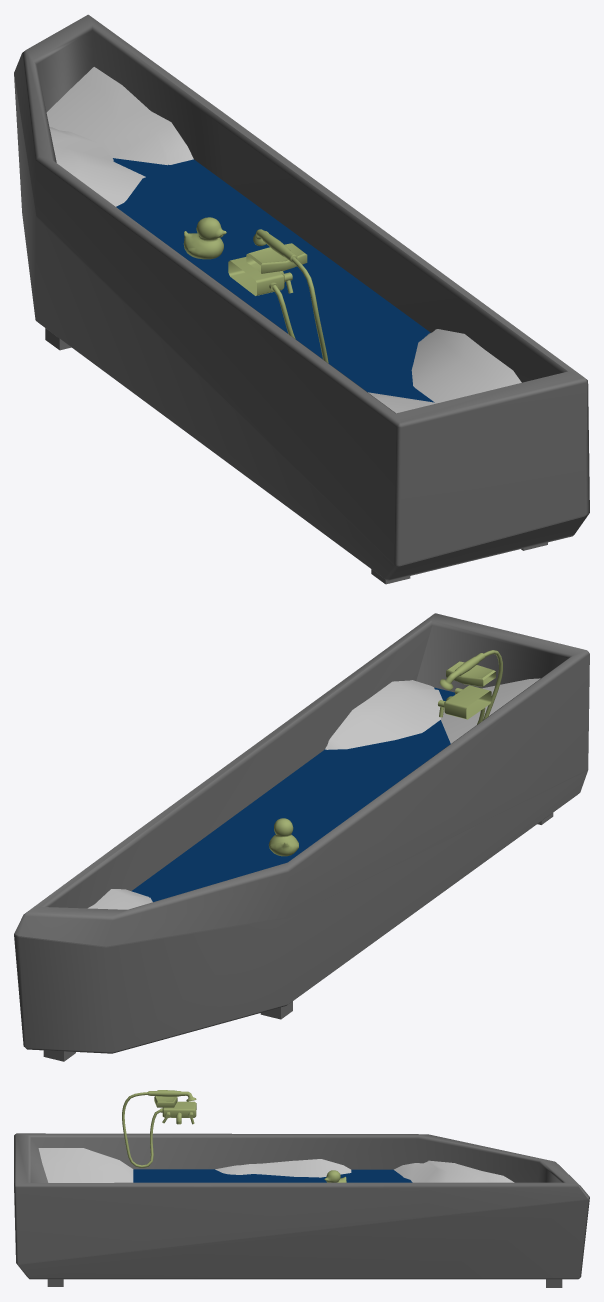
The model's file is SciFiTub.fbx.
The picture shows the model from 3 angles, top to bottom: view 1: azimuth 30°, elevation 25°; view 2: azimuth 150°, elevation 25°; view 3: azimuth 270°, elevation 25°; orthographic projection. The views are drawn at different scales.
Parts seen in each view (by area): view 1: SciFiTub, Water, Soap, Hose, RubberDucky; view 2: SciFiTub, Water, Soap, Hose, RubberDucky; view 3: SciFiTub, Soap, Water, Hose.
Part boxes in pixels (bbox=[...]): SciFiTub: bbox=[14, 14, 589, 584]; Water: bbox=[113, 158, 434, 402]; Soap: bbox=[46, 67, 521, 413]; Hose: bbox=[228, 229, 328, 363]; RubberDucky: bbox=[183, 217, 226, 259]; SciFiTub: bbox=[14, 613, 589, 1061]; Water: bbox=[131, 687, 455, 901]; Soap: bbox=[88, 678, 540, 909]; Hose: bbox=[438, 650, 502, 724]; RubberDucky: bbox=[269, 818, 298, 856]; SciFiTub: bbox=[14, 1133, 589, 1287]; Soap: bbox=[38, 1148, 514, 1182]; Water: bbox=[133, 1169, 412, 1182]; Hose: bbox=[122, 1090, 196, 1167].
Size of the model in its own units: 0.8941 by 1.1 by 3.82.
